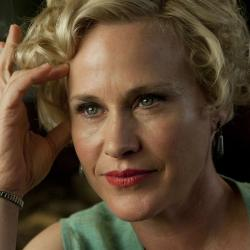face: (10, 2, 244, 223)
